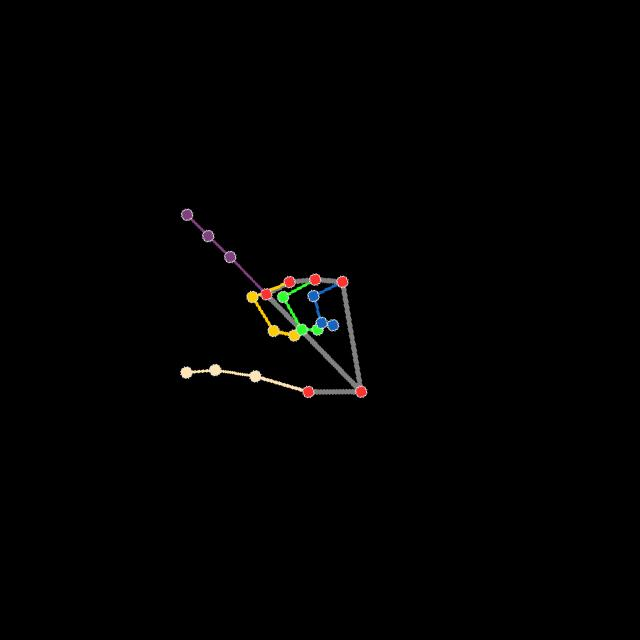gun: (171, 206, 370, 402)
